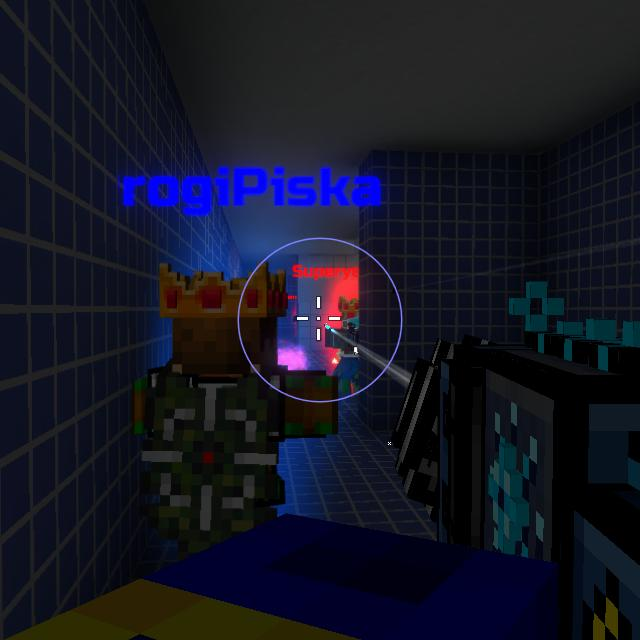Enemy: (326, 295, 361, 361)
